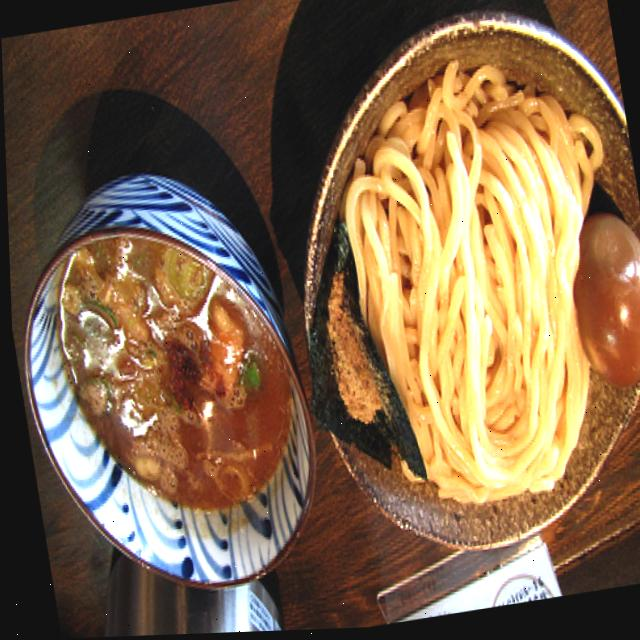面条主食: (2, 50, 640, 576)
